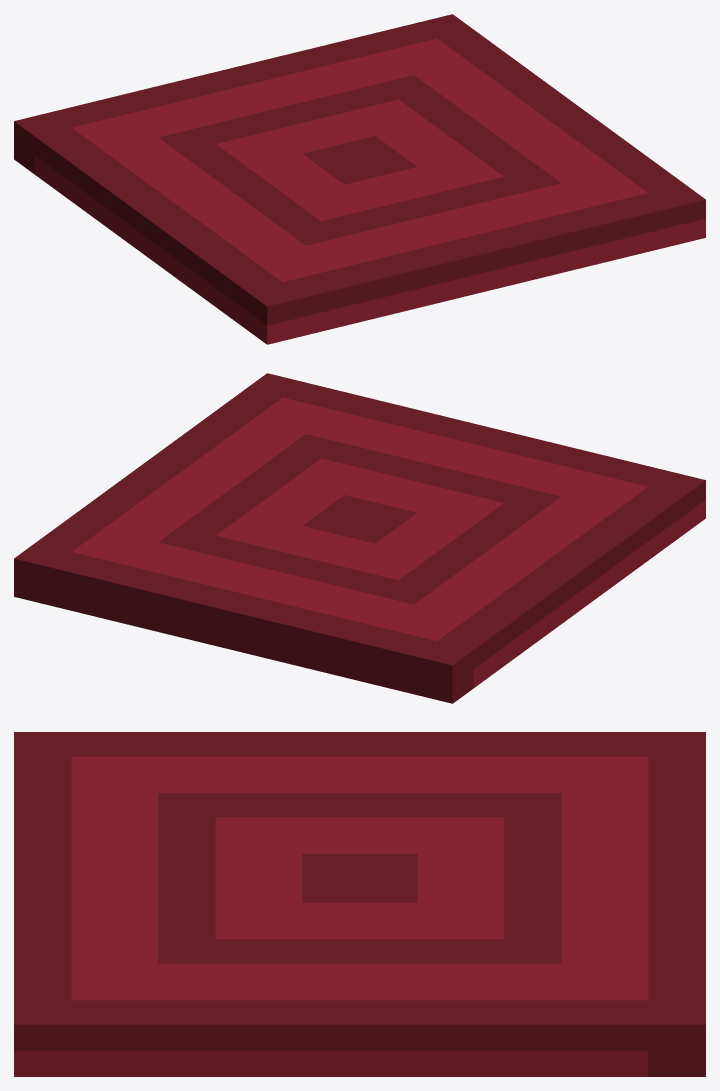
File: Tile4.obj
The picture shows the model from 3 angles, top to bottom: view 1: azimuth 30°, elevation 25°; view 2: azimuth 150°, elevation 25°; view 3: azimuth 270°, elevation 25°; orthographic projection. The views are drawn at different scales.
Bounding box in the file's own units: 2.4 × 0.2 × 2.4.
Materials: 1 (1 with a texture image).
